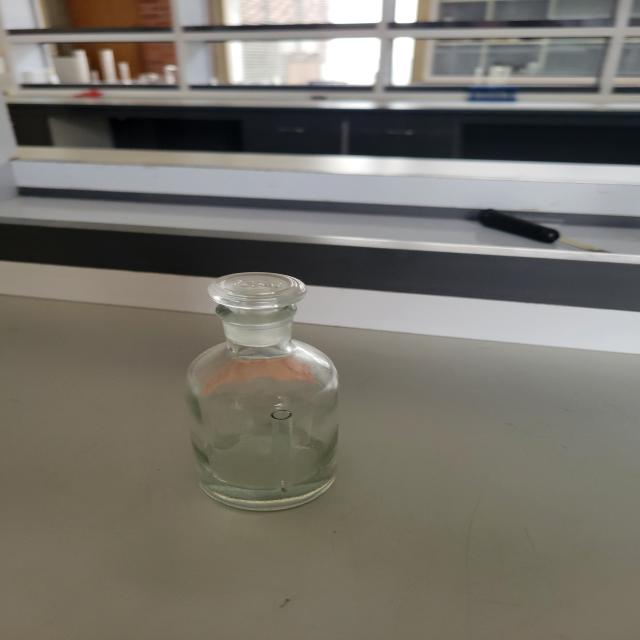Reagent_Bottle: (168, 244, 387, 538)
